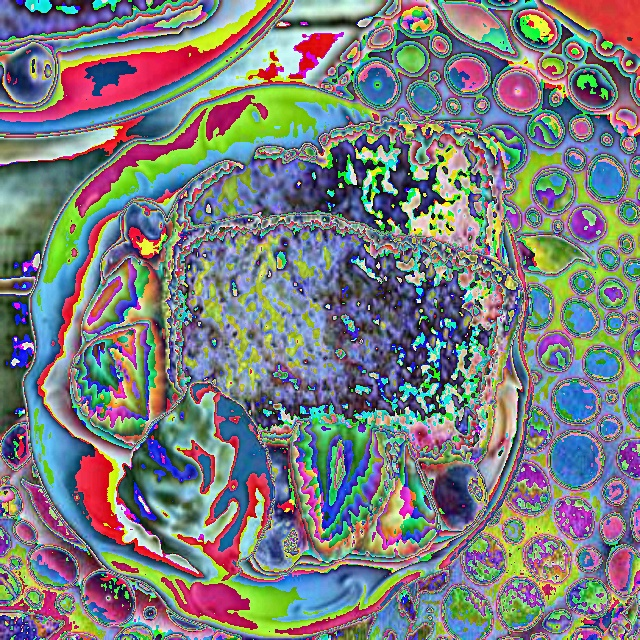background: (69, 116, 526, 583), (0, 0, 227, 107)
